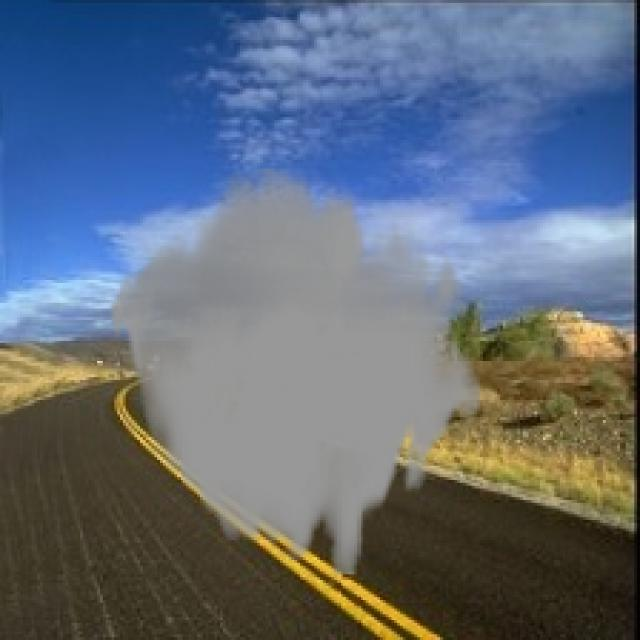smoke: (108, 169, 483, 574)
